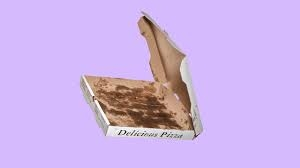paper: (70, 7, 205, 148)
